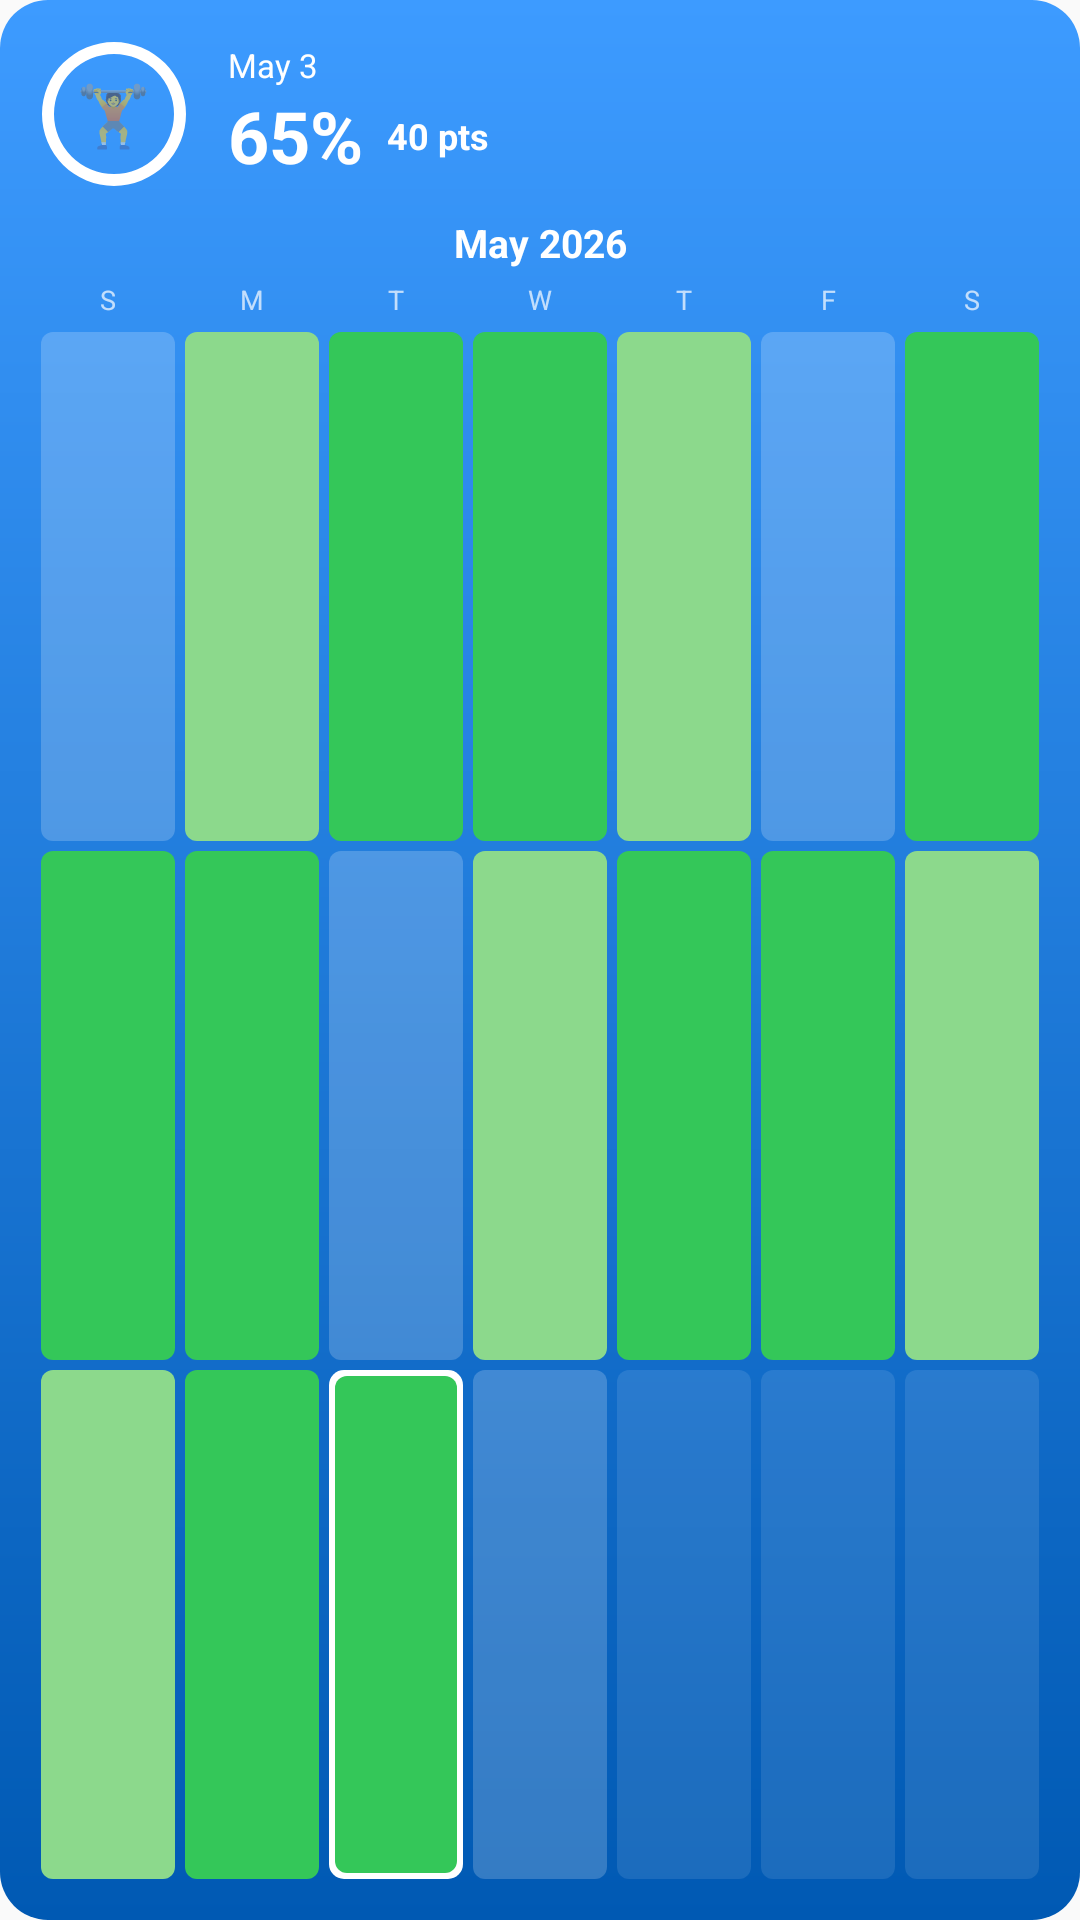

Where icons sit on this 1080*1920 app screen, as (x1, y1, x2, y2):
widget ring: (42, 42, 186, 186)
